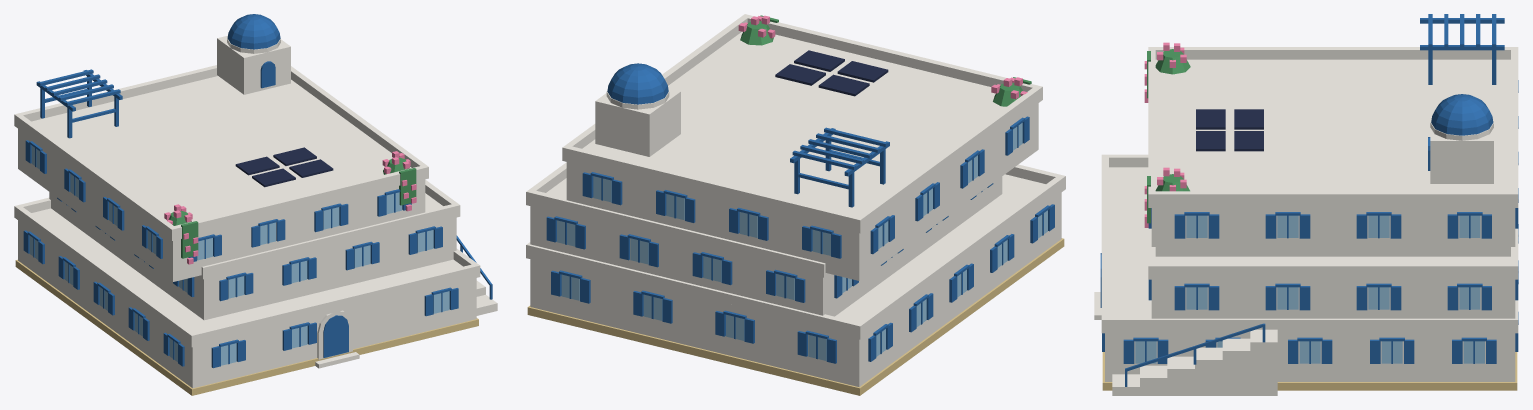
File: house-2x2-3f-aegean-a-solar.glb
The picture shows the model from 3 angles, left to right: view 1: azimuth 30°, elevation 25°; view 2: azimuth 150°, elevation 25°; view 3: azimuth 270°, elevation 25°; orthographic projection. The views are drawn at different scales.
Visible parts, largest first — view 1: house-2x2-3f-aegean-a-solar; view 2: house-2x2-3f-aegean-a-solar; view 3: house-2x2-3f-aegean-a-solar.
Boxes of the visible parts, x1,y1,x2,y2 form: house-2x2-3f-aegean-a-solar: (14, 14, 497, 395); house-2x2-3f-aegean-a-solar: (526, 14, 1065, 395); house-2x2-3f-aegean-a-solar: (1094, 14, 1518, 395).
Size of the model in its own units: 1.99 by 1.31 by 2.
1 material, 1 textured.
